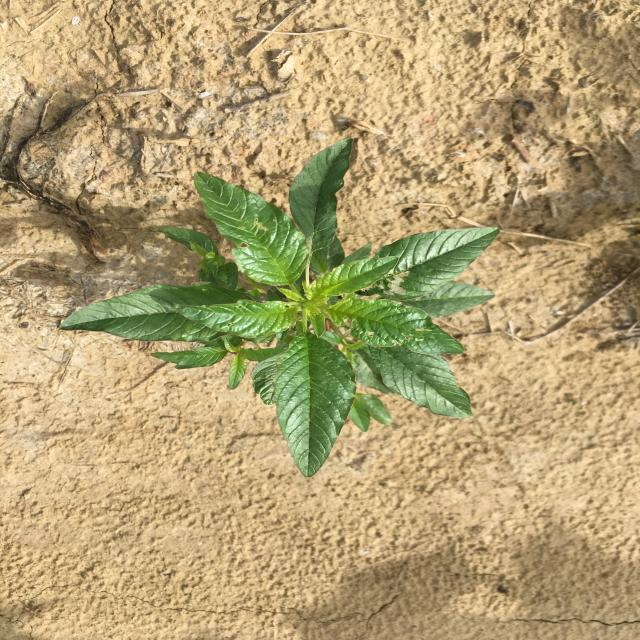Waterhemp: (59, 138, 501, 479)
